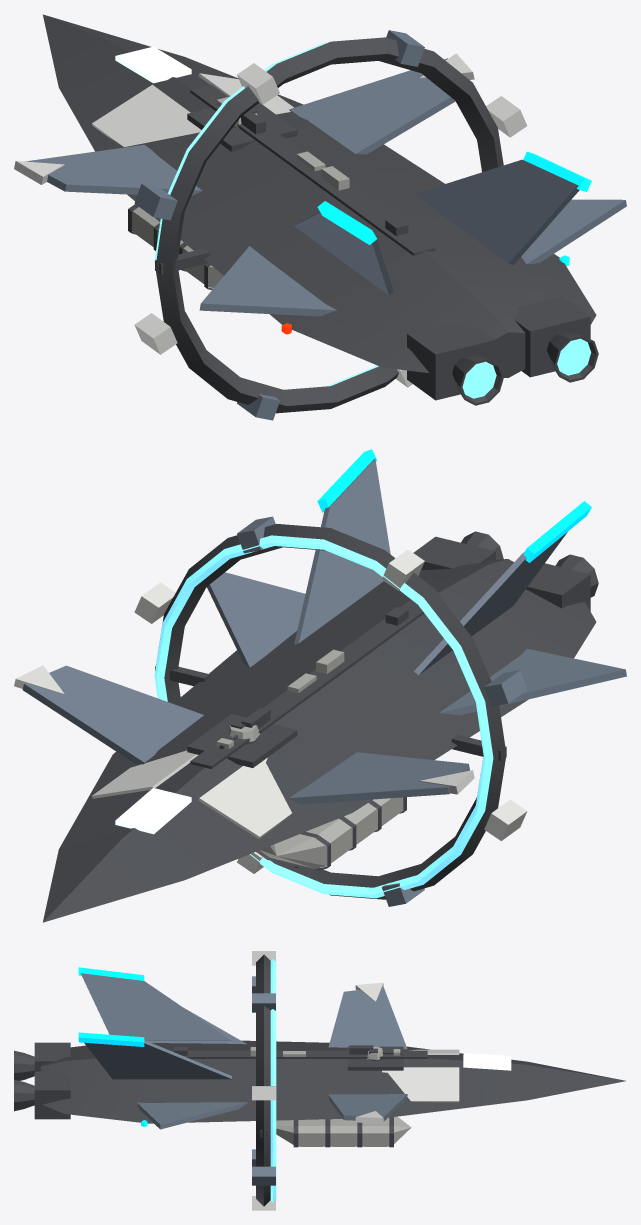
File: shadow.glb
3 views of the same model, one above another, from view 1: azimuth 30°, elevation 25°; view 2: azimuth 150°, elevation 25°; view 3: azimuth 270°, elevation 25° (orthographic). The views are drawn at different scales.
Visible parts, largest first — view 1: Hull; view 2: Hull; view 3: Hull.
Part boxes in pixels (left/top/right/bottom): Hull: left=14, top=14, right=626, bottom=420; Hull: left=14, top=449, right=626, bottom=922; Hull: left=14, top=951, right=625, bottom=1210.
Bounding box in the file's own units: 1.05 × 0.8328 × 2.
